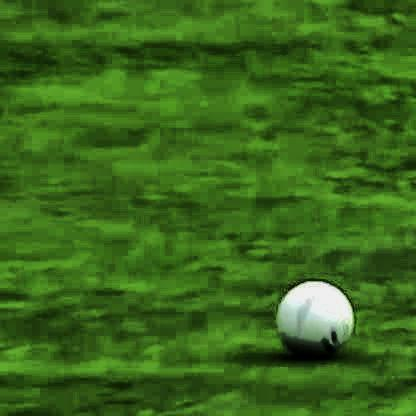golfball: (277, 272, 351, 352)
